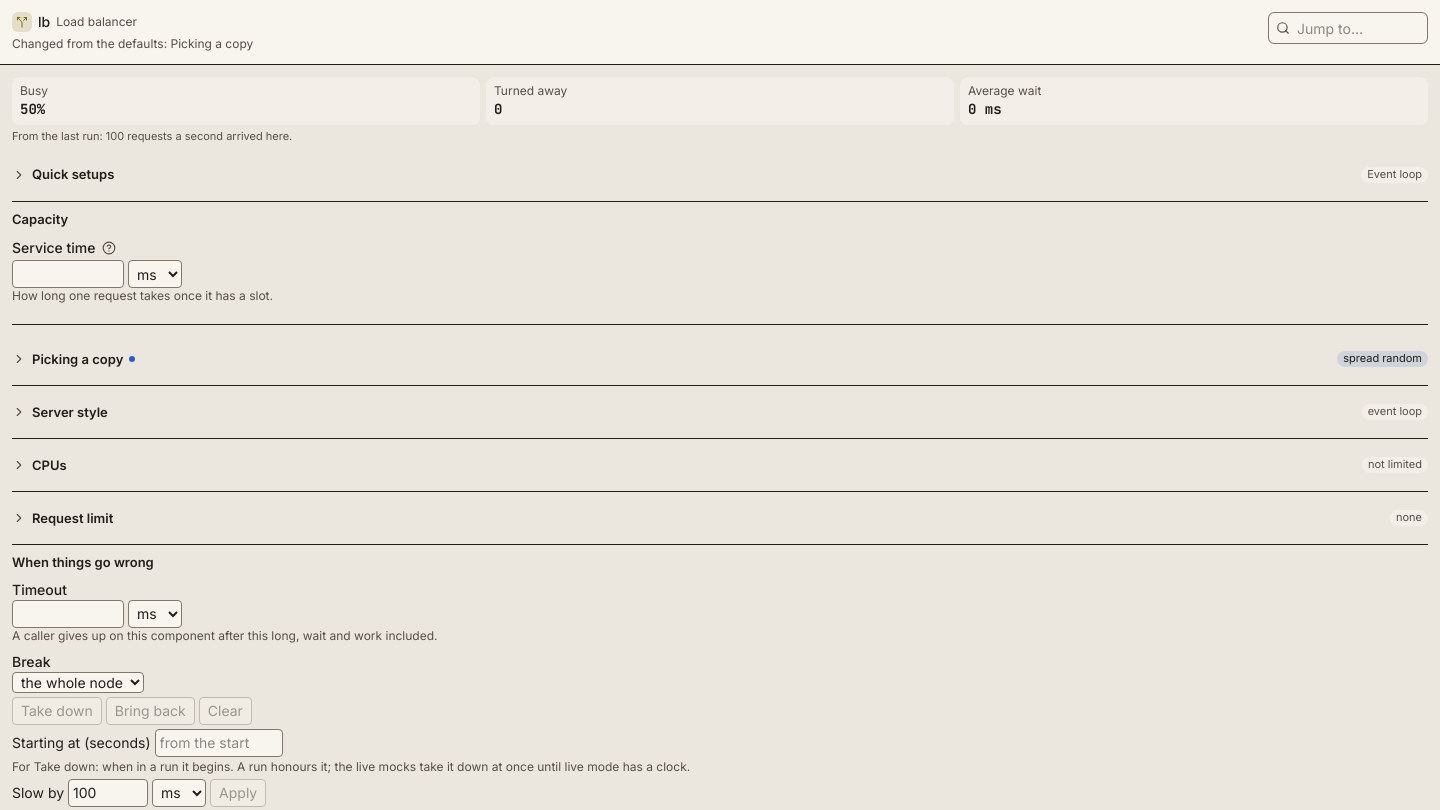
Scenario: a_balancer_gets_spread_and_detect_in_its_picking_group
This screenshot has width=1440, height=810.
Click the button "Picking a copy spread random": (78, 359) [12, 341, 1428, 377]
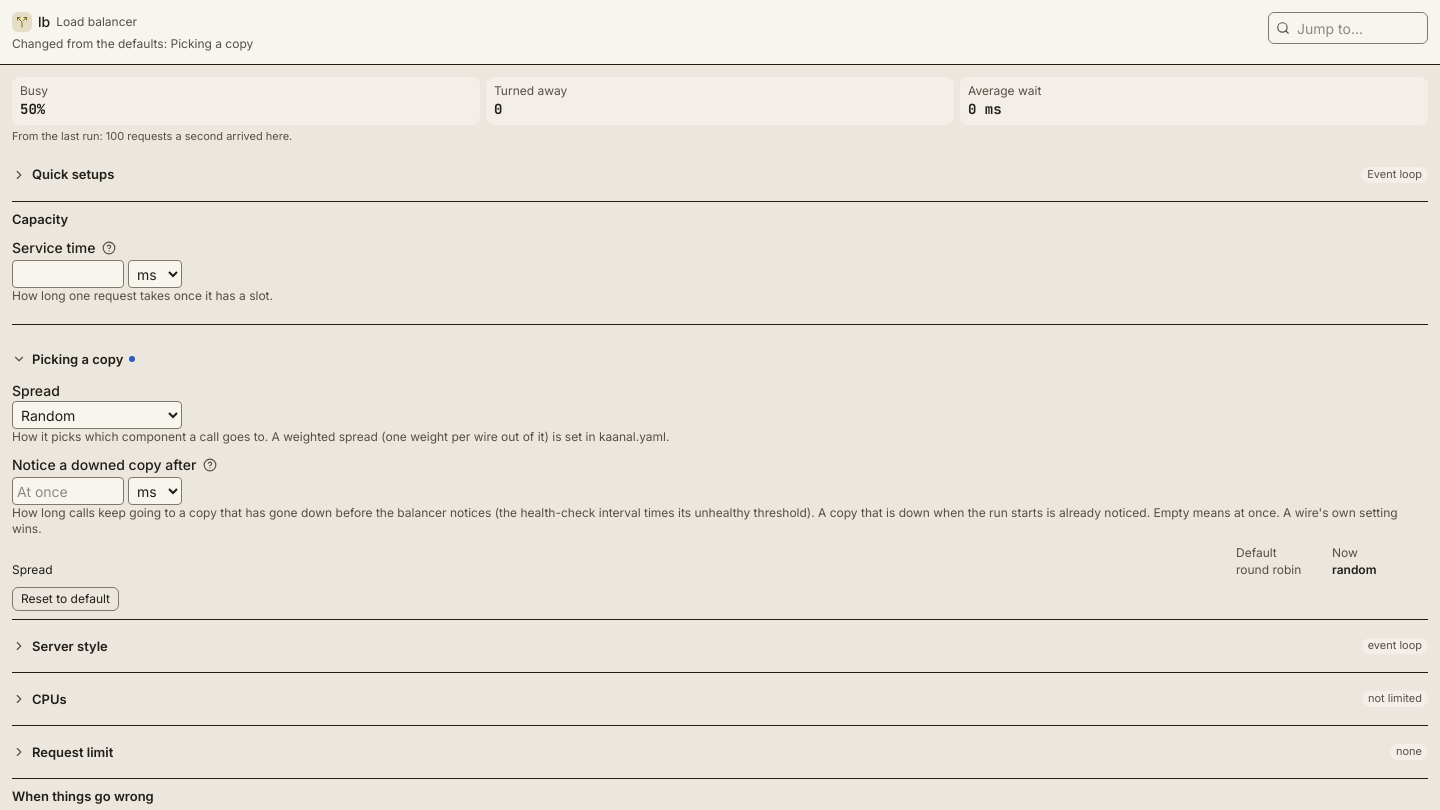
Check: the dropdown labelled "Spread" is shown, box [12, 401, 182, 429]
Check: the number field labelled "Notice a downed copy after" is shown, box [12, 477, 124, 505]
